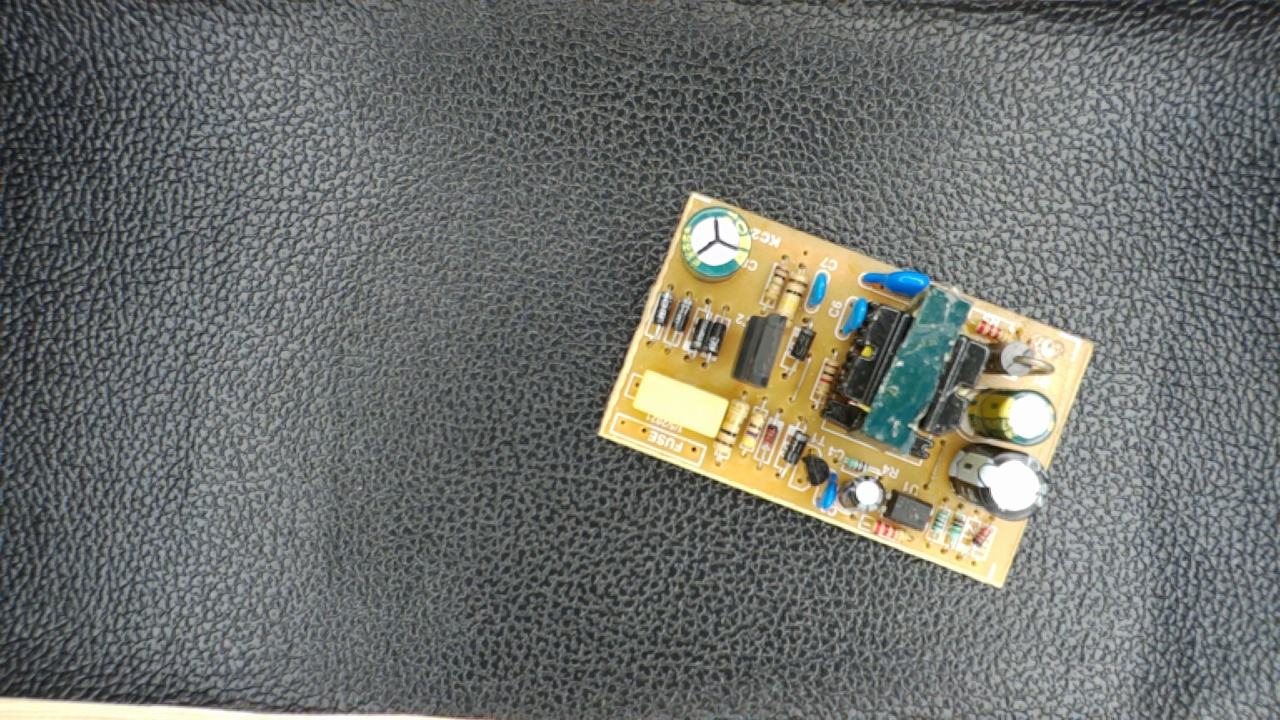hv_capacitor: (677, 209, 755, 284)
mov: (860, 267, 936, 299)
optocoupler: (887, 486, 938, 536)
